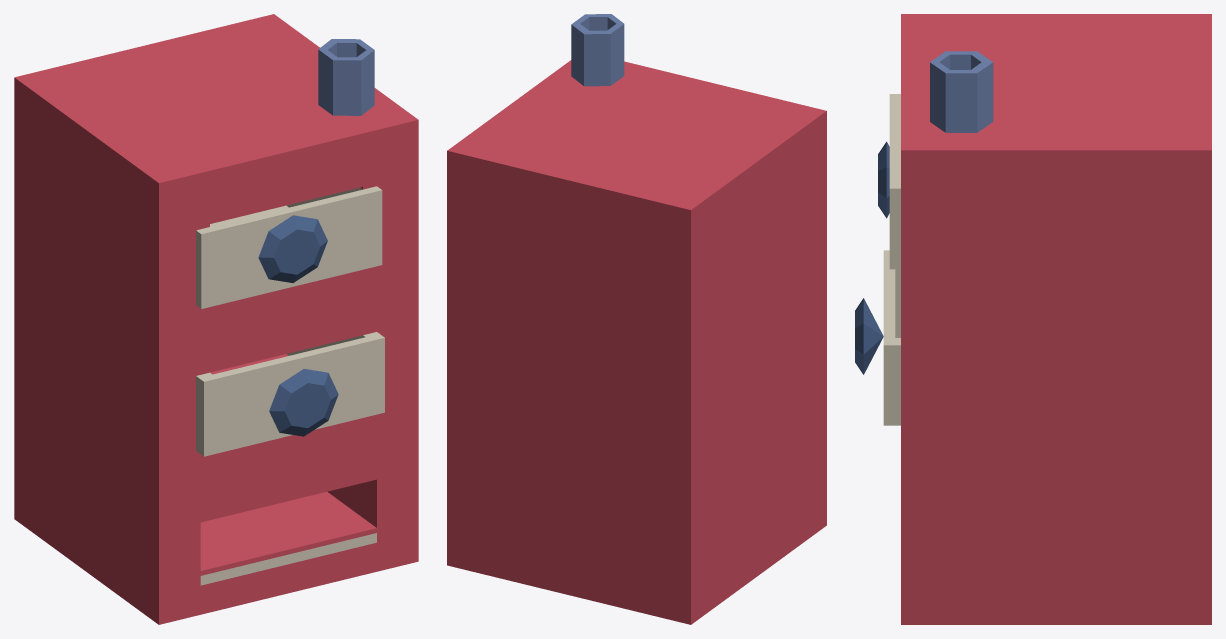
The model's file is Project 149.glb.
The picture shows the model from 3 angles, left to right: view 1: azimuth 30°, elevation 25°; view 2: azimuth 150°, elevation 25°; view 3: azimuth 270°, elevation 25°; orthographic projection. The views are drawn at different scales.
Parts seen in each view (by area): view 1: Mesh_Mesh_head_geo.001_lambert2SG.001; view 2: Mesh_Mesh_head_geo.001_lambert2SG.001; view 3: Mesh_Mesh_head_geo.001_lambert2SG.001.
Boxes of the visible parts, x1,y1,x2,y2 form: Mesh_Mesh_head_geo.001_lambert2SG.001: (14,14,418,624); Mesh_Mesh_head_geo.001_lambert2SG.001: (447,14,826,624); Mesh_Mesh_head_geo.001_lambert2SG.001: (855,14,1211,624).
Bounding box in the file's own units: 56 × 103 × 62.
